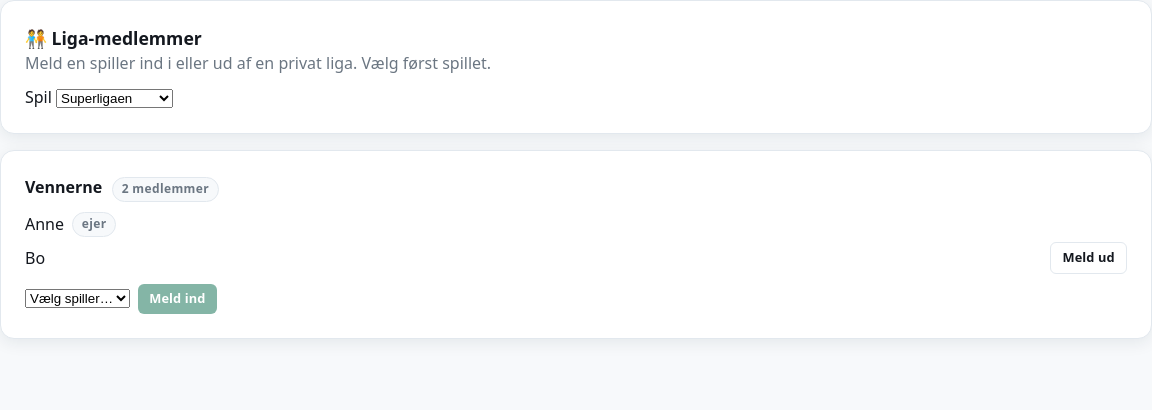
Scenario: GameLeagueMembersTab › siger det, når intet blev ændret — frem for at melde succes
Select "Carl" in the dropdown named "Vælg spiller til Vennerne" at coordinates (78, 299), box [25,289,130,308]
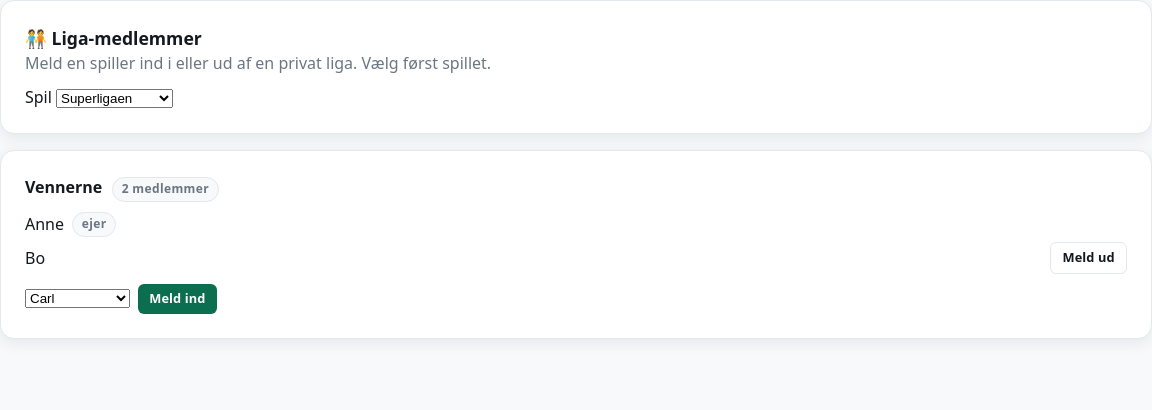
Click the button "Meld ind" at coordinates (177, 299), box [138,284,217,314]
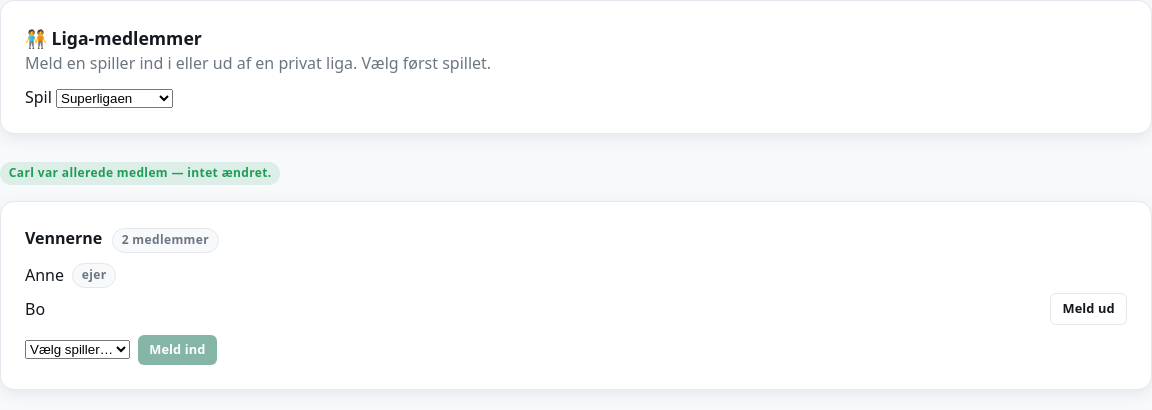
Check: the text "Carl var allerede medlem — intet ændret." is shown, box [0,162,280,185]
